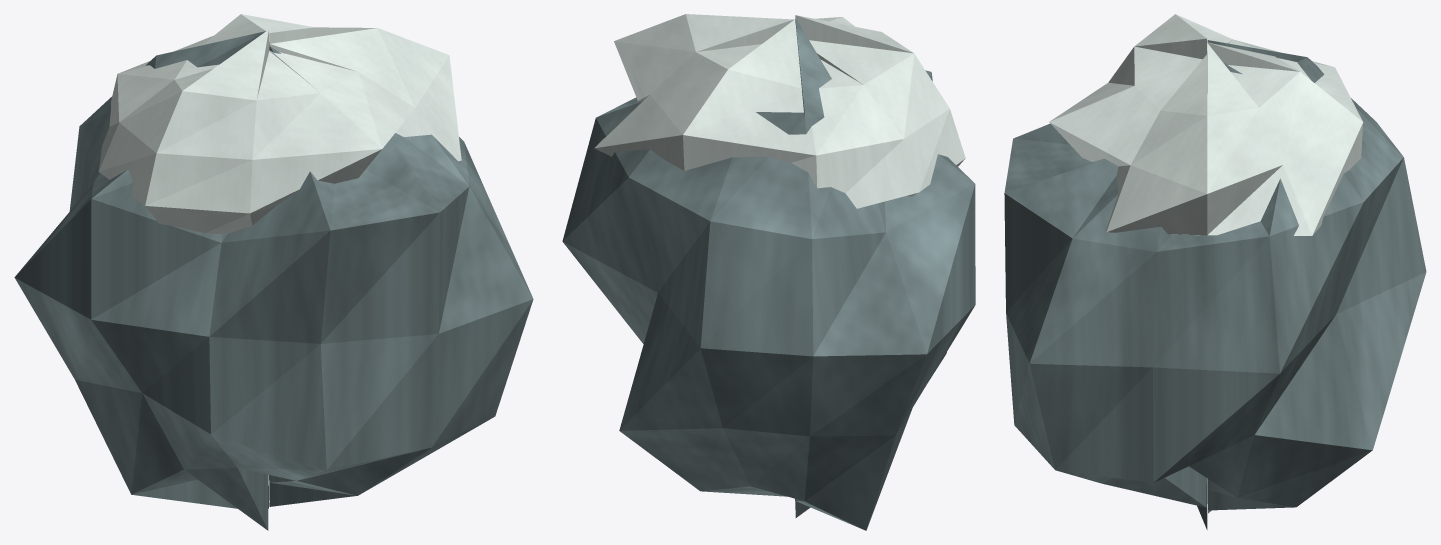
Rendered from snow_rock_03.glb.
The picture shows the model from 3 angles, left to right: view 1: azimuth 30°, elevation 25°; view 2: azimuth 150°, elevation 25°; view 3: azimuth 270°, elevation 25°; orthographic projection. The views are drawn at different scales.
Visible parts, largest first — view 1: rock, snow_cap; view 2: rock, snow_cap; view 3: rock, snow_cap.
Part boxes in pixels (left/top/right/bottom): rock: left=14, top=31, right=533, bottom=530; snow_cap: left=98, top=14, right=461, bottom=233; rock: left=562, top=17, right=975, bottom=530; snow_cap: left=594, top=14, right=965, bottom=208; rock: left=1004, top=40, right=1426, bottom=529; snow_cap: left=1049, top=14, right=1363, bottom=235.
Size of the model in its own units: 3.86 by 4.77 by 3.7.
2 materials, 2 textured.
